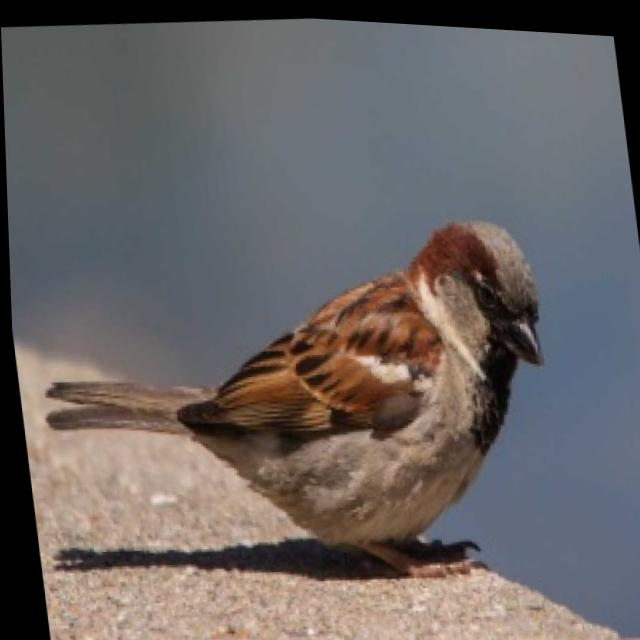sparrow: (19, 179, 582, 621)
